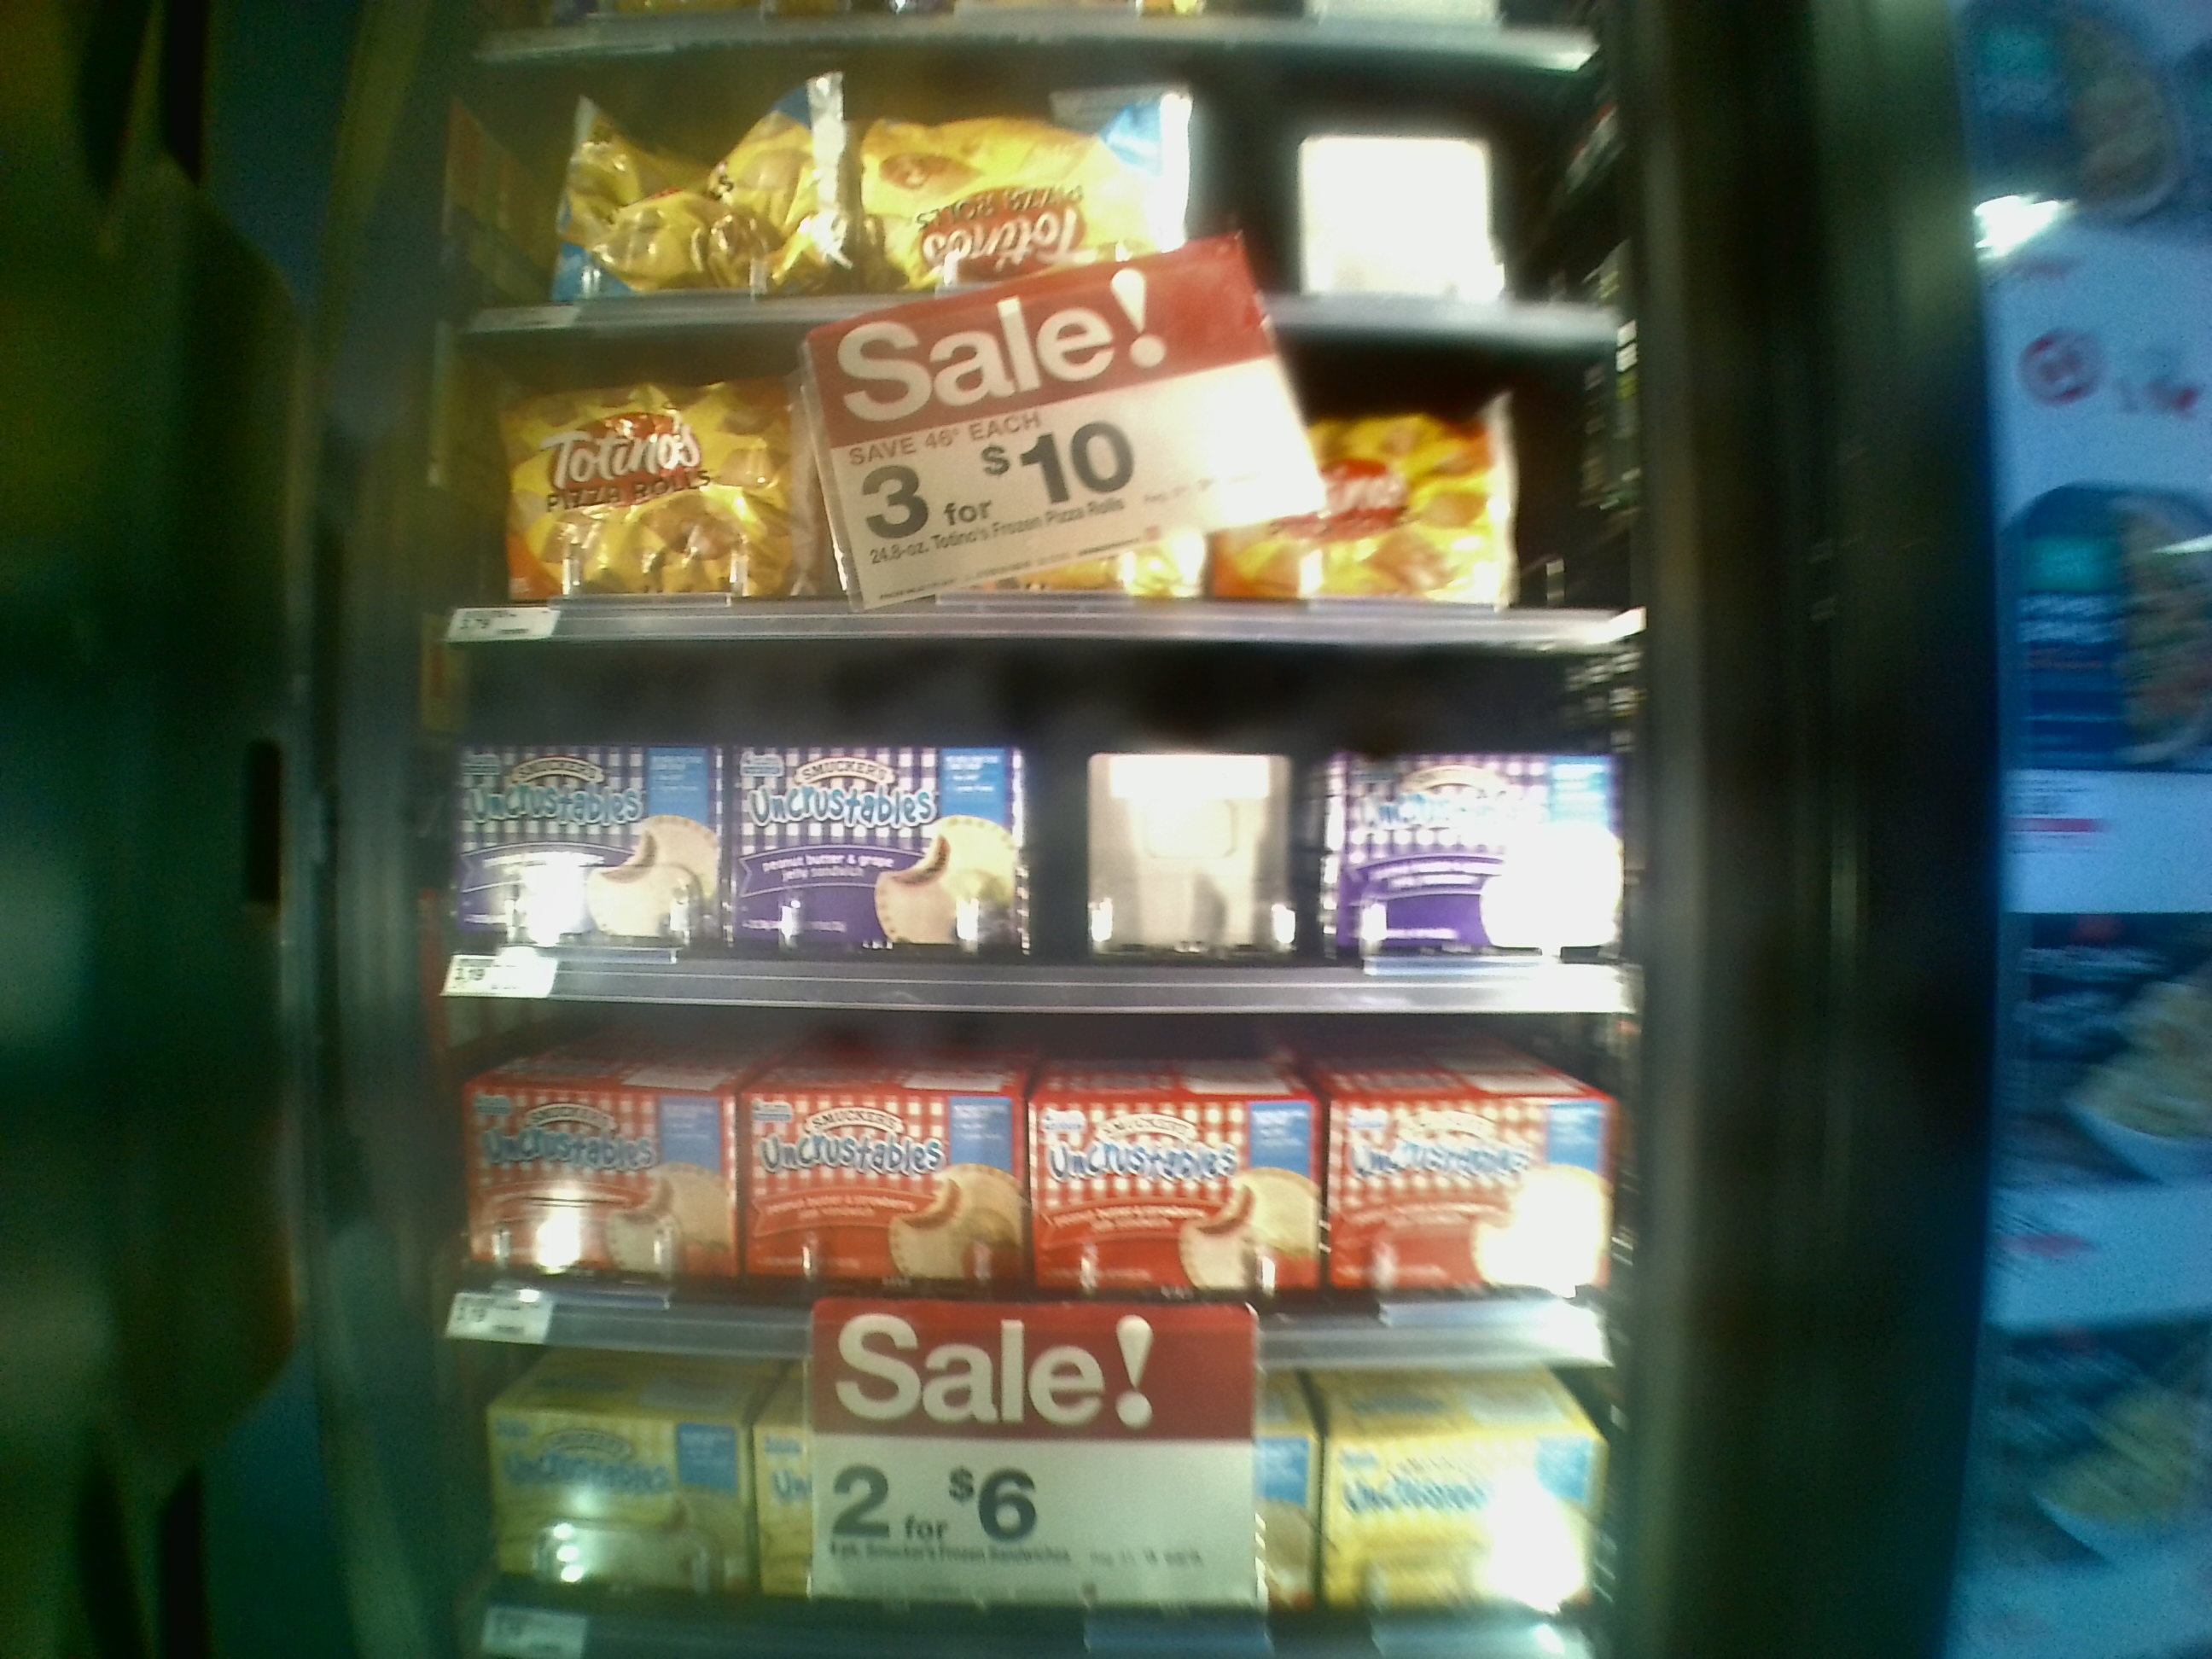shelf: (425, 641, 1655, 1016), (439, 1025, 1615, 1368), (441, 342, 1644, 650), (451, 52, 1634, 329)
